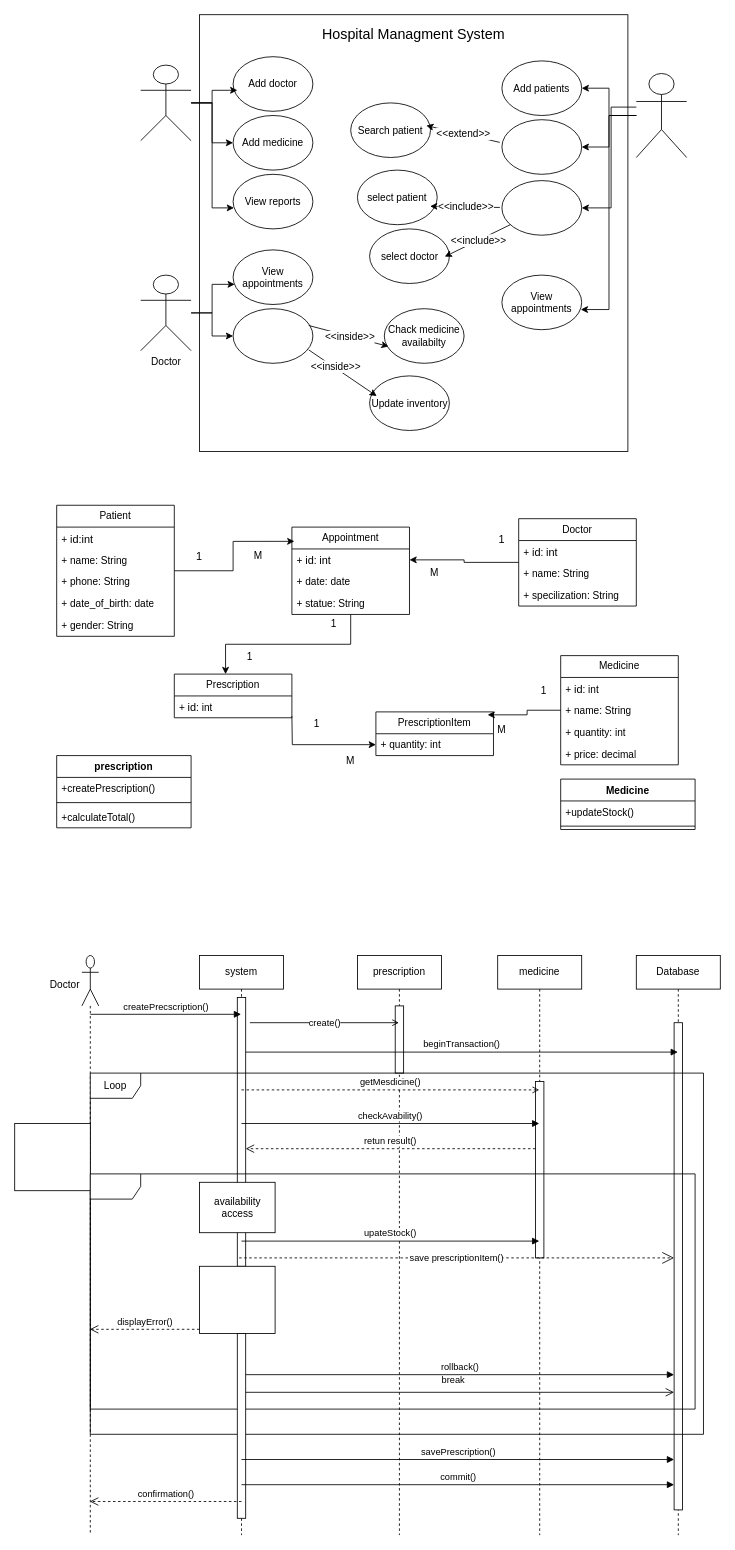
The diagram is 735 pixels wide and 1550 high, and some of its shapes have lost their labels. The shapes that lost their labels are listed below. From the top down, each one's centre as x and y in pixels, then its label:
point (165, 102): Admin
point (661, 115): Staff
point (541, 146): View patient
point (541, 207): Book appointment
point (272, 335): Create prescription
point (52, 1157): each medicine
point (237, 1299): if NO avalibility
point (392, 1291): alt
